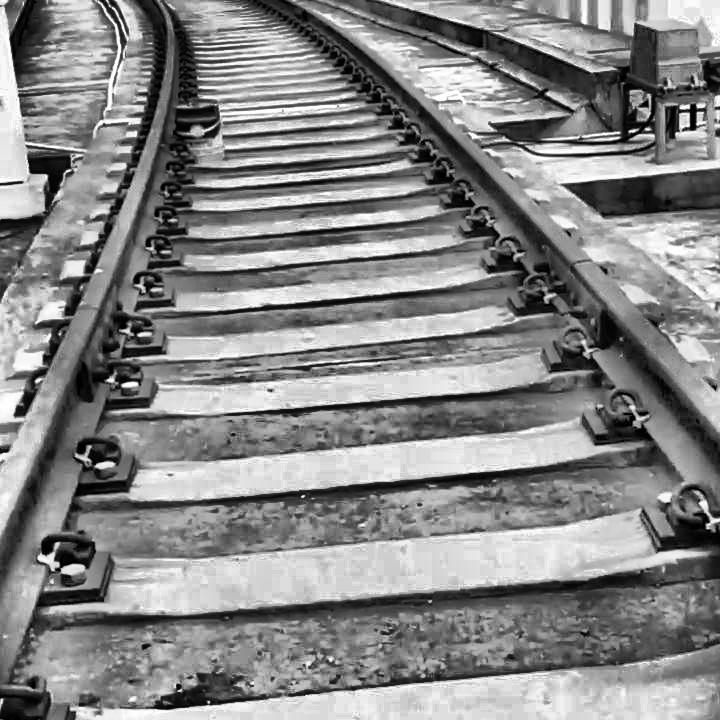Trash: (155, 85, 231, 158)
